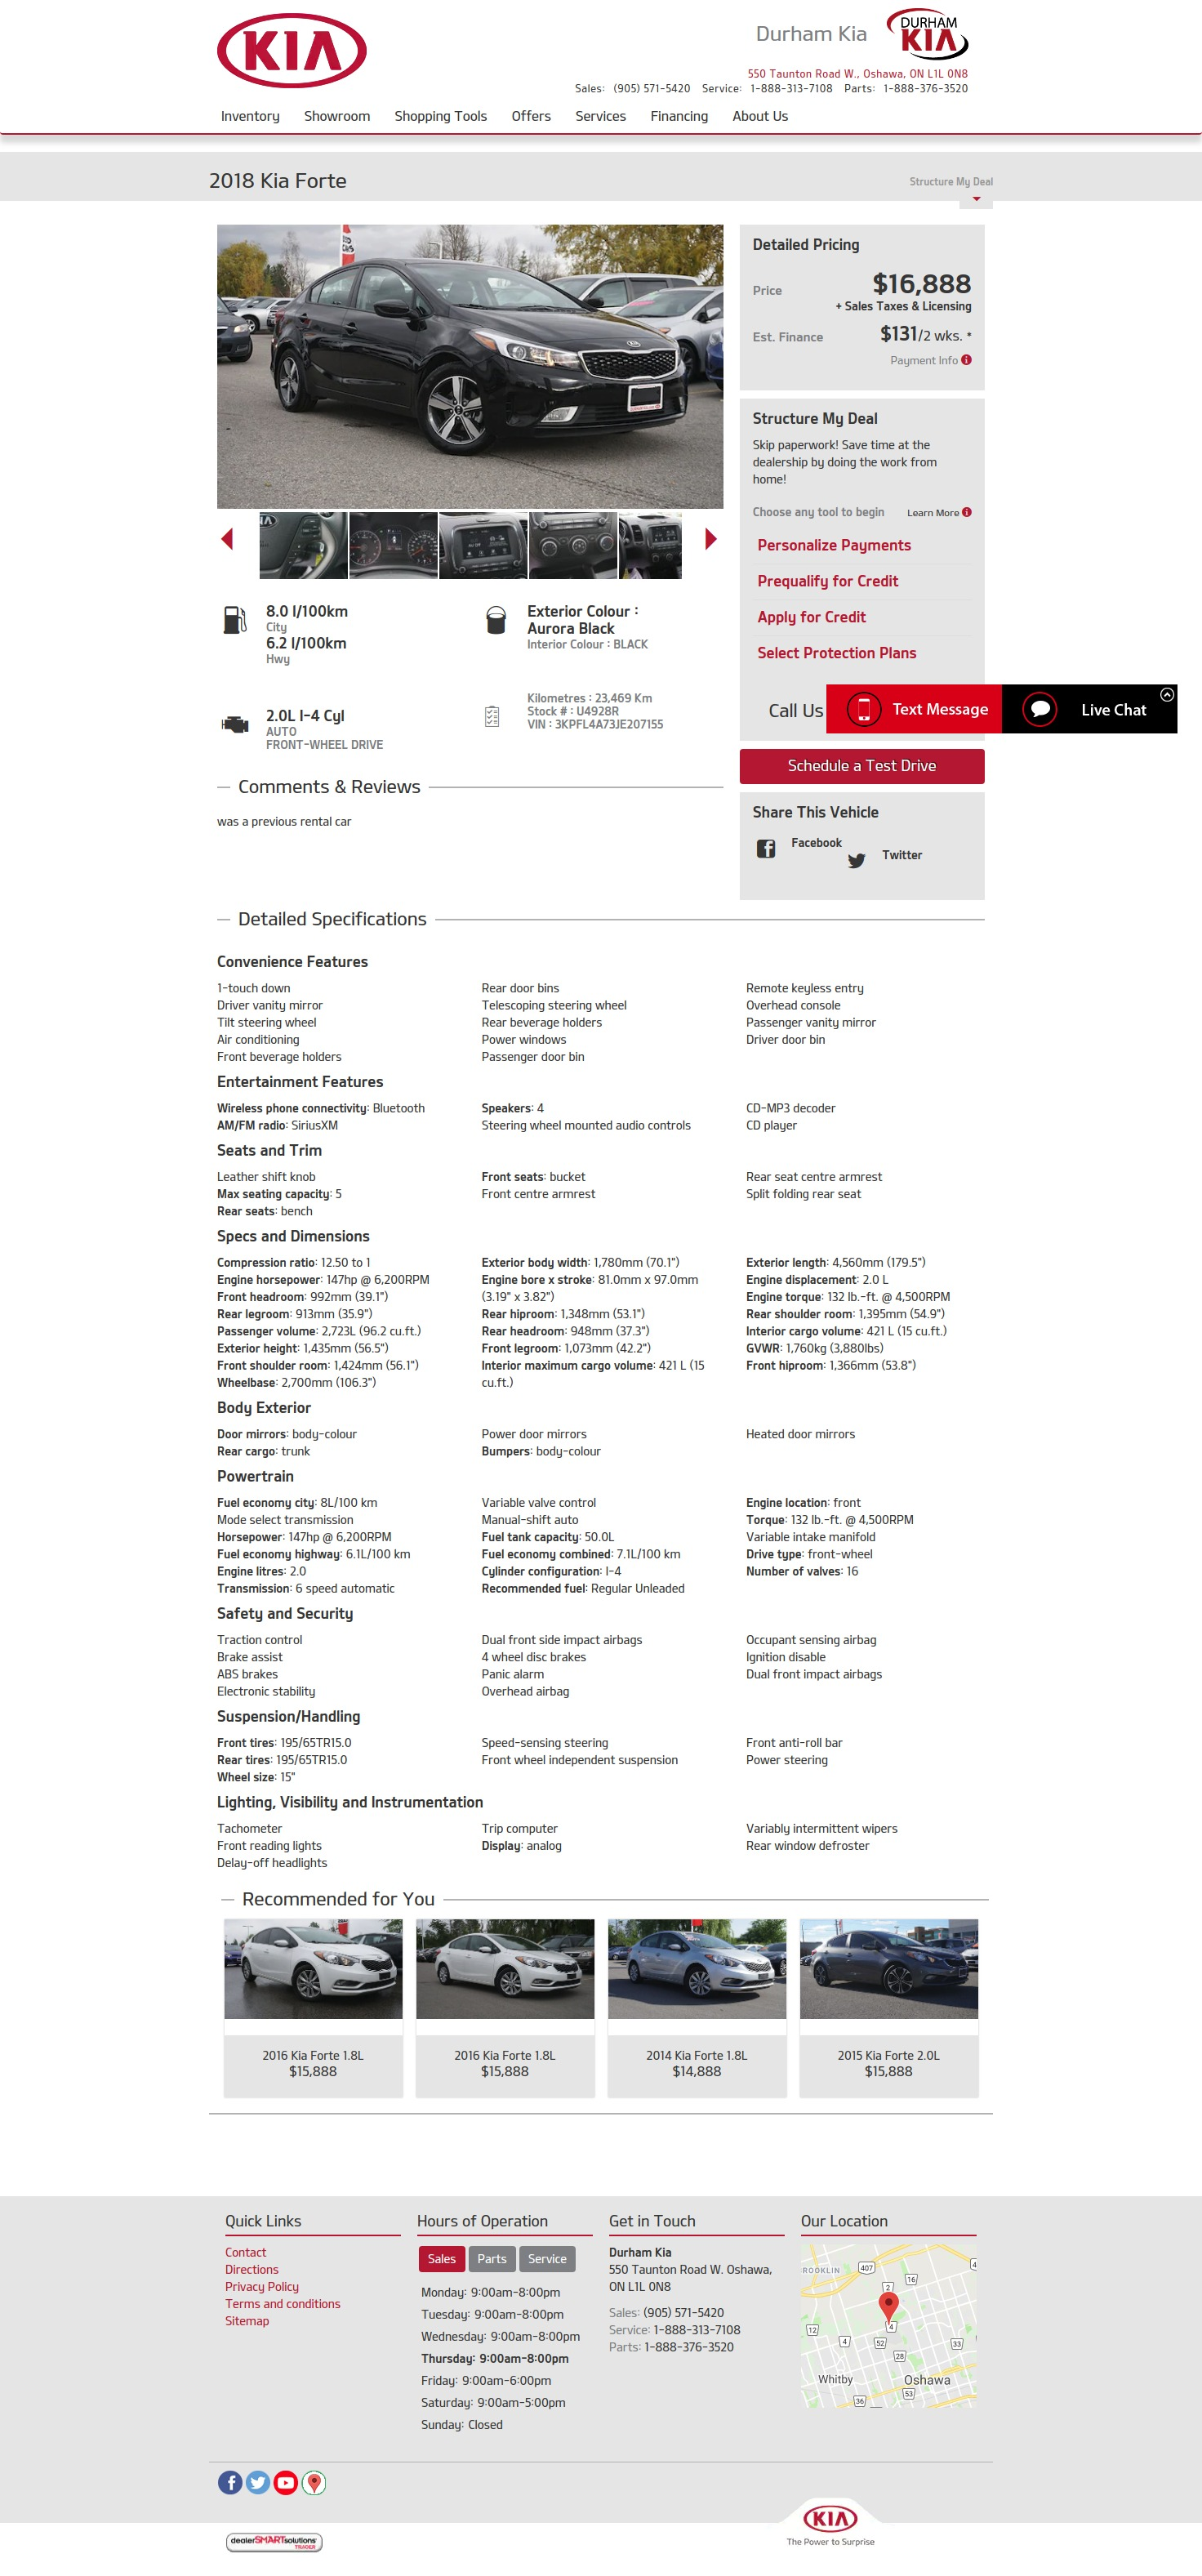car: (706, 527, 719, 550)
